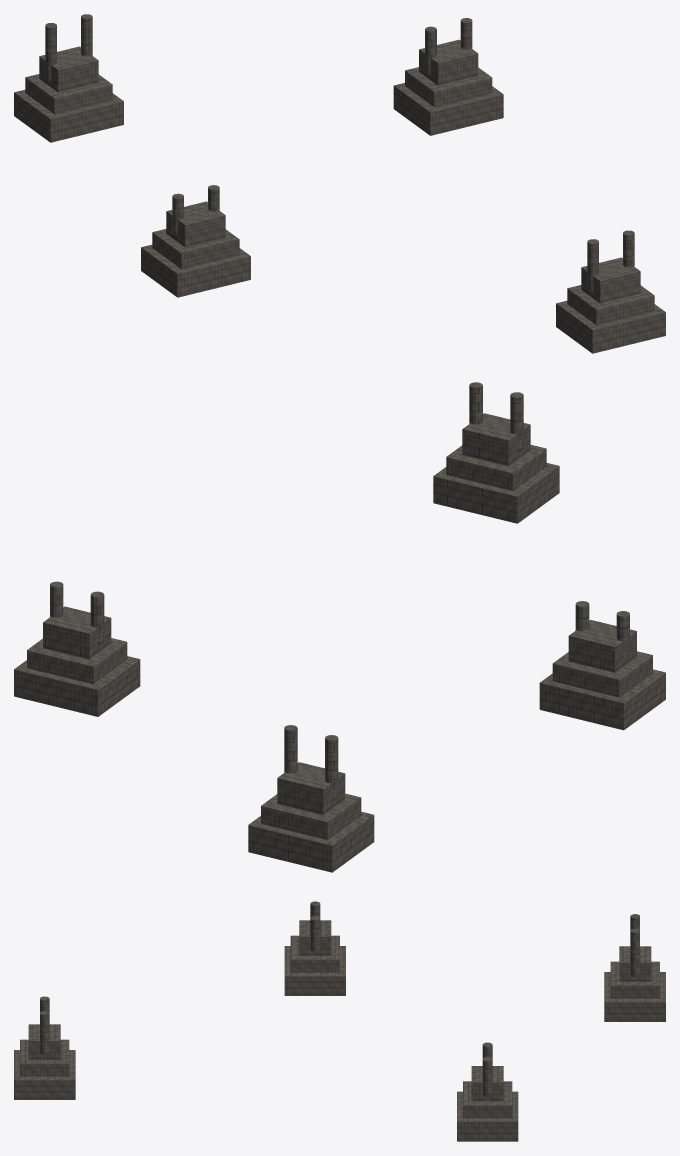
File: TempleDistrict_CitadelStone_1.fbx
3 renders of one model, top to bottom at view 1: azimuth 30°, elevation 25°; view 2: azimuth 150°, elevation 25°; view 3: azimuth 270°, elevation 25°, orthographic. The views are drawn at different scales.
Parts seen in each view (by area): view 1: TempleDistrict_CitadelStone_1; view 2: TempleDistrict_CitadelStone_1; view 3: TempleDistrict_CitadelStone_1.
Boxes of the visible parts, bbox=[...] form: TempleDistrict_CitadelStone_1: bbox=[14, 14, 665, 353]; TempleDistrict_CitadelStone_1: bbox=[14, 382, 665, 872]; TempleDistrict_CitadelStone_1: bbox=[14, 901, 665, 1141].
Bounding box in the file's own units: 33800 × 7500 × 53000.
Materials: 1 (1 with a texture image).
